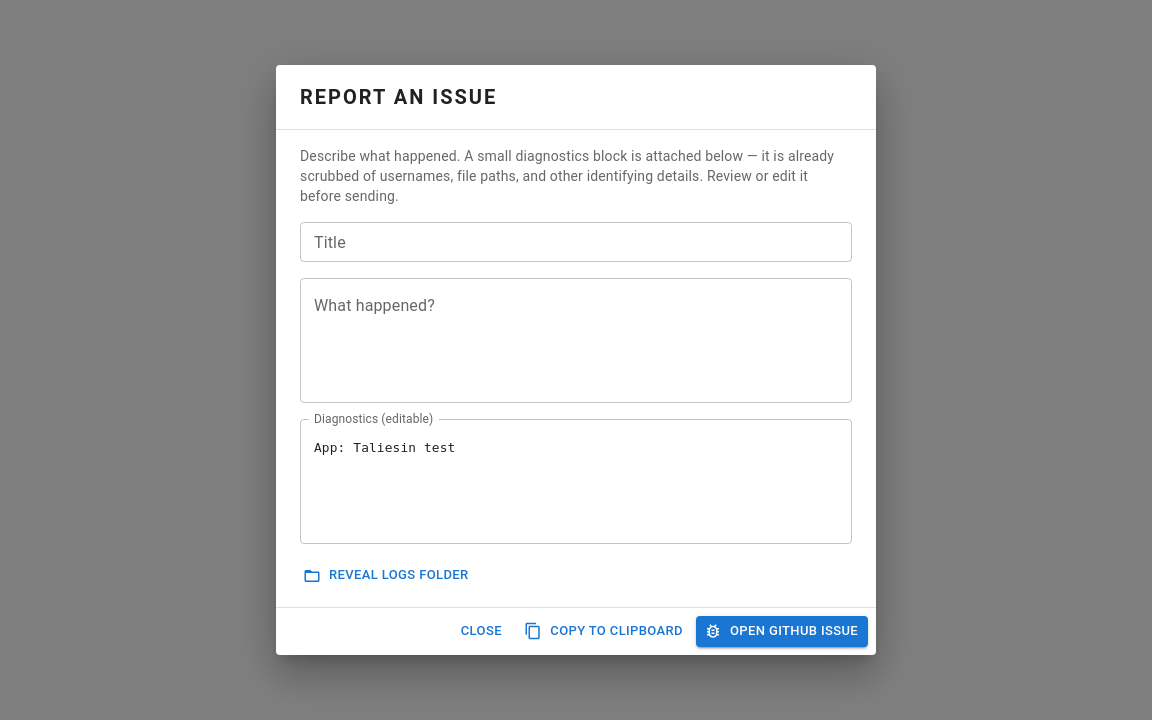
Test: ReportIssueDialog — opening the issue › warns, and does not claim a copy, when the clipboard write failed
Click the button "Open GitHub issue": [782, 631] box [696, 616, 868, 647]
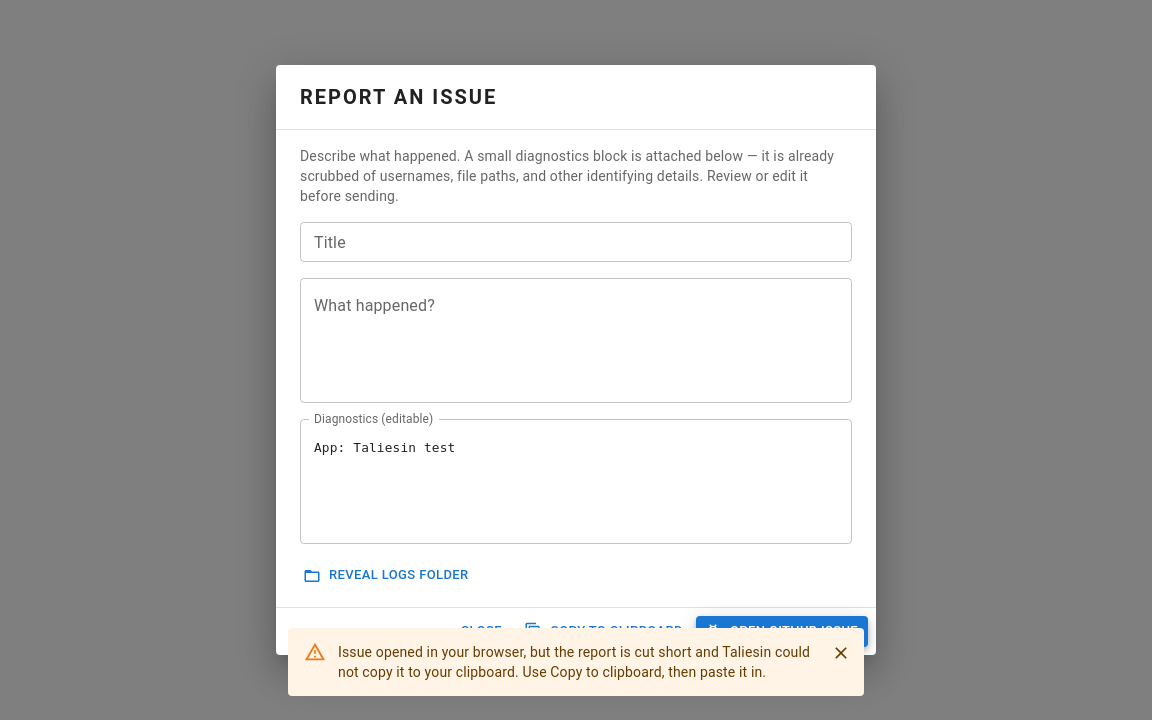
Expected: the text "could not copy it to your clipboard" is shown, [338, 644, 810, 680]
